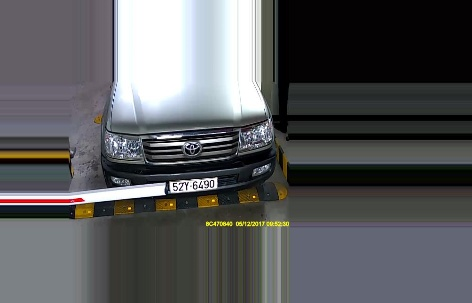plate: (166, 175, 221, 193)
